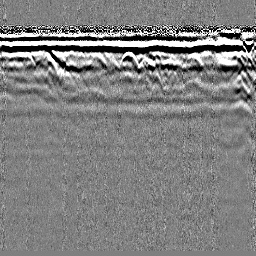cavity: (118, 48, 139, 67)
